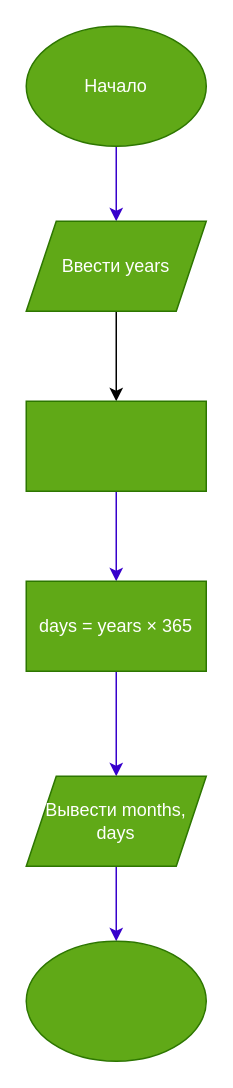
The diagram is 233 pixels wide and 1088 high, and some of its shapes have lost their labels. The shapes that lost their labels are listed below. From the top down, each one's centre as x and y in pixels, then its label:
At (x=115, y=445): "months = years × 12".
At (x=115, y=1000): "Конец".
